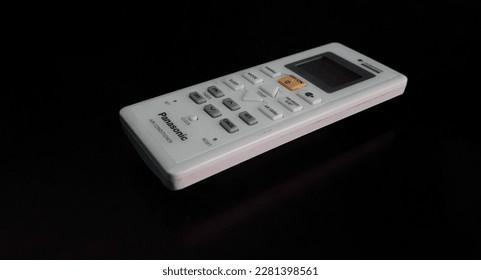Remote control: (118, 42, 409, 192)
